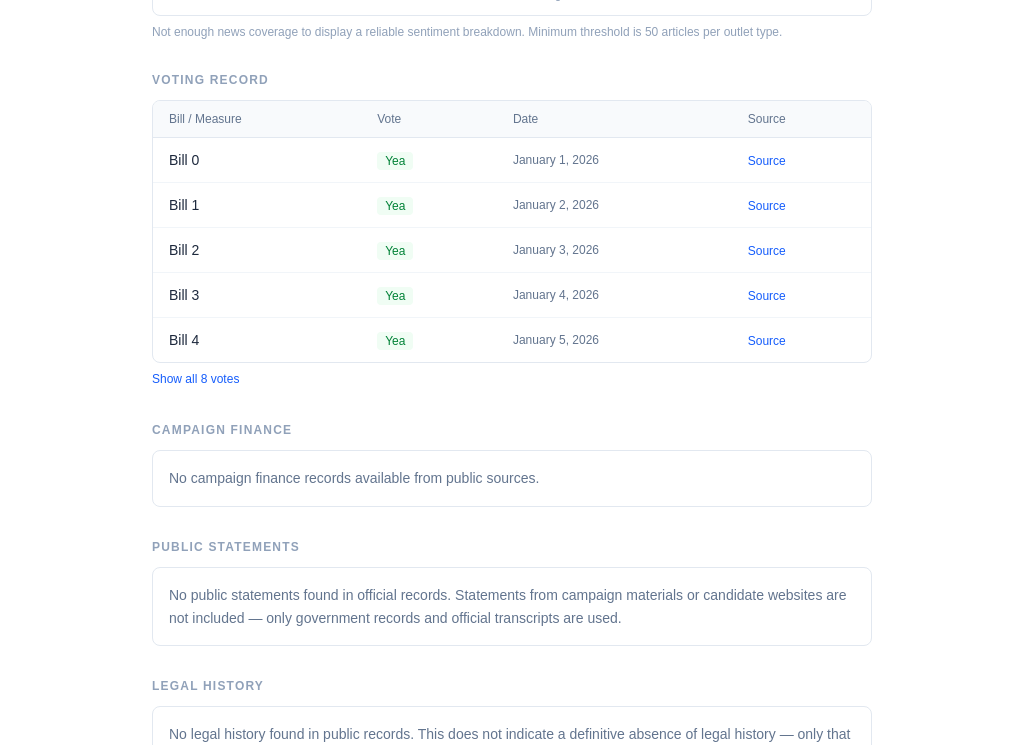
Test: CandidateProfile voting record › shows and toggles the 'Show all N votes' button when there are more than 5 records
(page scrolled)
expect the text "Bill 0" is shown: met, box [153,138,361,182]
expect the text "Bill 5" is not shown: met
Click the button "Show all 8 votes" at (196, 379), box [152,371,239,387]
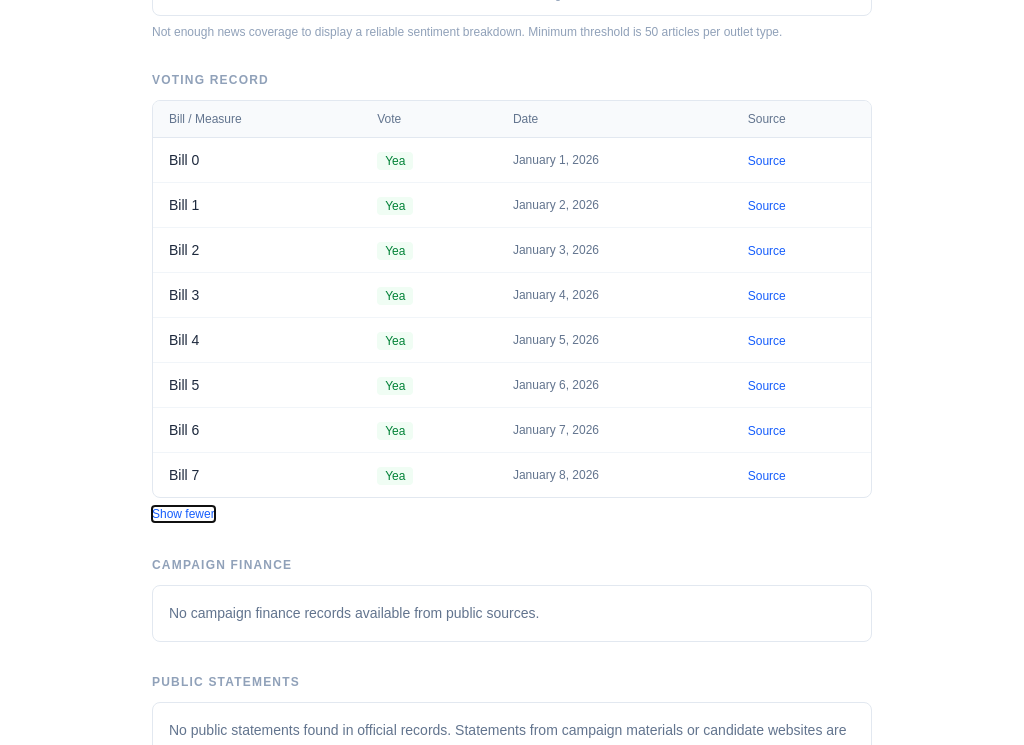
expect the text "Bill 5" is shown: met, box [153,362,361,408]
expect the button "Show fewer" is shown: met
Click the button "Show fewer" at (183, 514), box [152,506,215,522]
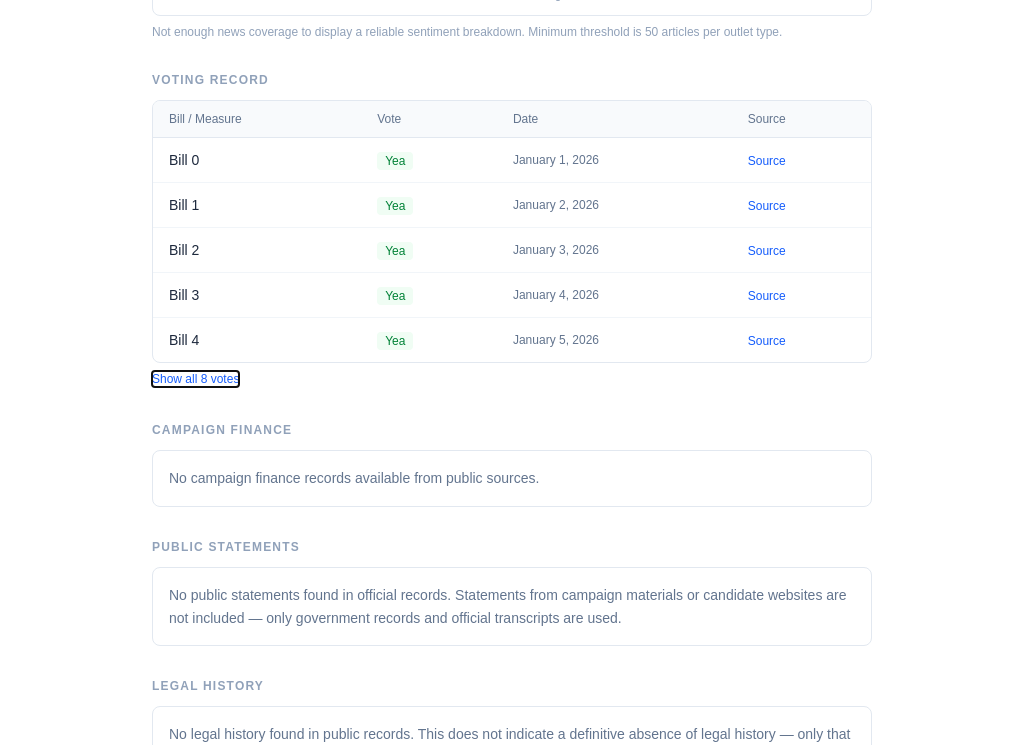
expect the text "Bill 5" is gone: met
